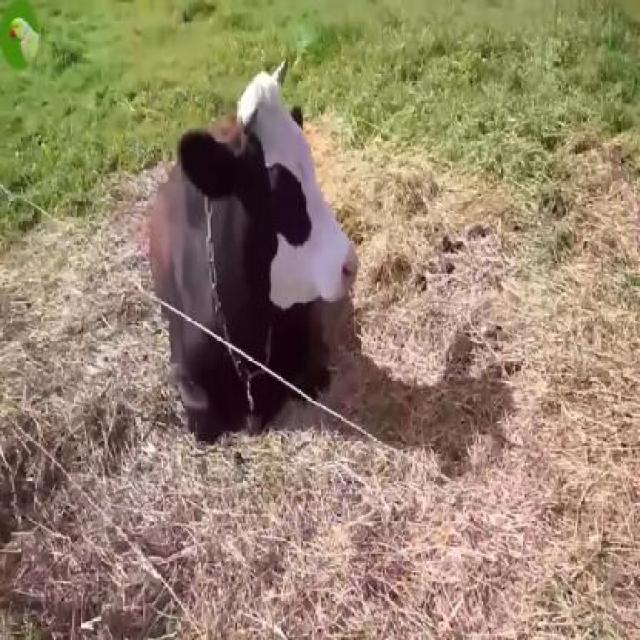Cow: (148, 56, 358, 430)
